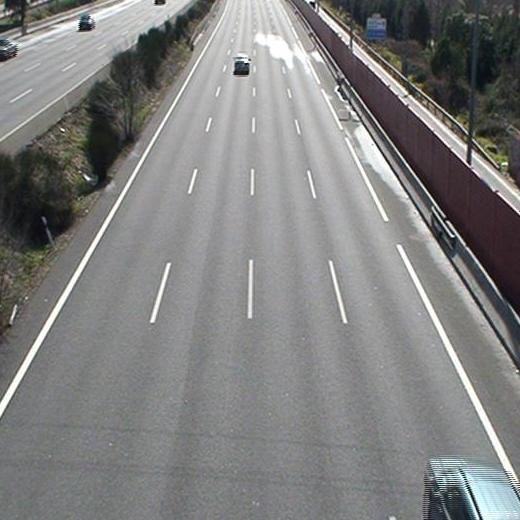car: (234, 54, 251, 74)
